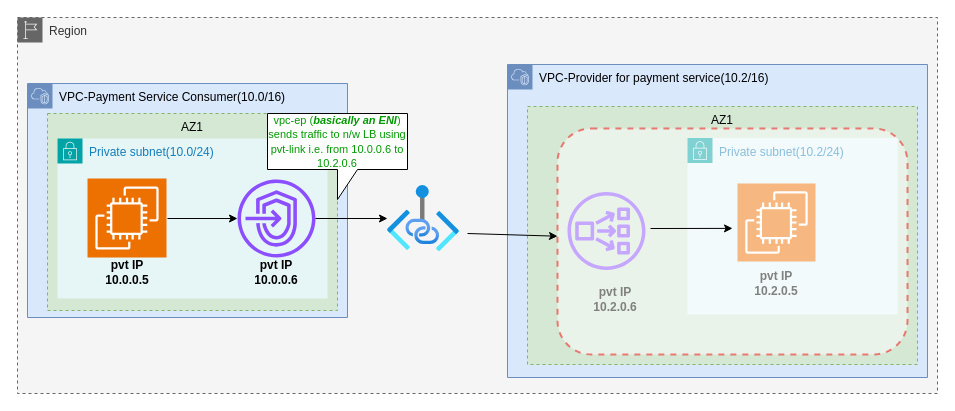
The diagram is 955 pixels wide and 411 high, and some of its shapes have lost their labels. The centre of each missing label's shape, as x and y in pixels:
endpoint service: (732,241)
pvt-link: (423,218)
